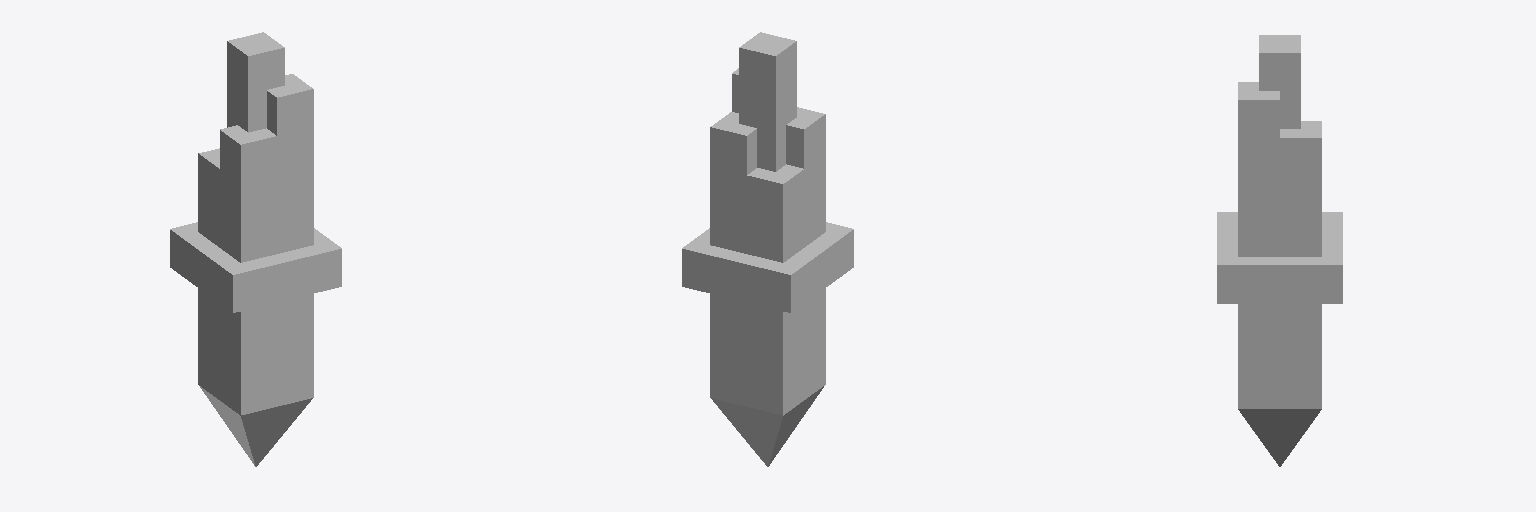
The model's file is pedestal_crystalholder.obj.
3 views of the same model, side by side, from view 1: azimuth 30°, elevation 25°; view 2: azimuth 150°, elevation 25°; view 3: azimuth 270°, elevation 25° (orthographic).
Visible parts, largest first — view 1: CRYSTAL_HOLDER_Cube.010; view 2: CRYSTAL_HOLDER_Cube.010; view 3: CRYSTAL_HOLDER_Cube.010.
Part boxes in pixels (x1,y1,x2,y2): CRYSTAL_HOLDER_Cube.010: (170, 32, 341, 466); CRYSTAL_HOLDER_Cube.010: (682, 32, 853, 466); CRYSTAL_HOLDER_Cube.010: (1217, 35, 1342, 466).
Size of the model in its own units: 0.1875 by 0.6935 by 0.1875.